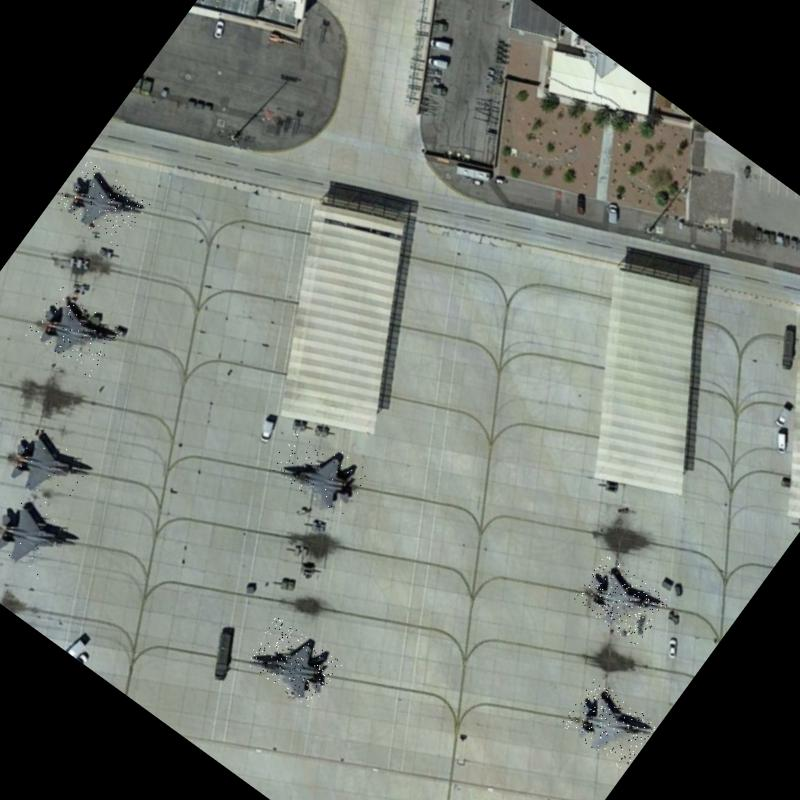A13: (268, 422, 372, 518), (24, 285, 125, 382), (242, 616, 342, 710), (560, 677, 658, 771), (572, 554, 670, 647), (0, 420, 93, 517), (54, 158, 151, 250), (0, 489, 84, 590)
